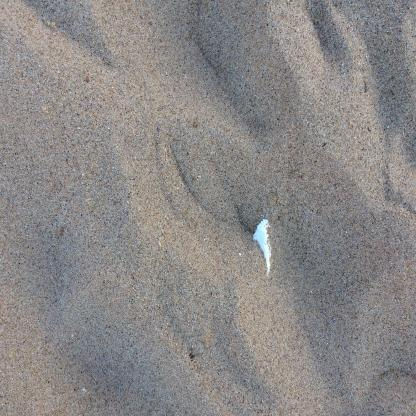trash: (251, 212, 276, 280)
